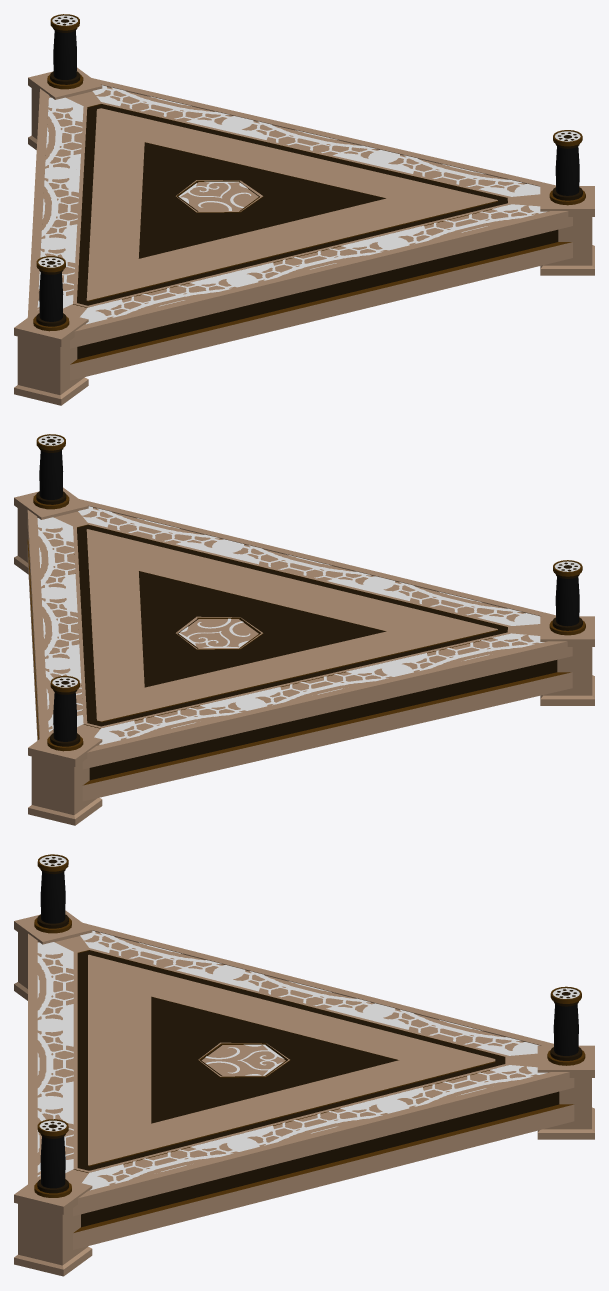
The model's file is PressetLevel.3.fbx.
3 renders of one model, top to bottom at view 1: azimuth 30°, elevation 25°; view 2: azimuth 150°, elevation 25°; view 3: azimuth 270°, elevation 25°, orthographic. The views are drawn at different scales.
Visible parts, largest first — view 1: Cube.012, Cylinder.002, Cylinder.003; view 2: Cube.012, Cylinder.002, Cylinder.003; view 3: Cube.012, Cylinder.002, Cylinder.003.
Part boxes in pixels (x1,y1,x2,y2): Cube.012: (27, 78, 572, 380); Cylinder.002: (14, 130, 594, 405); Cylinder.003: (28, 14, 102, 149); Cube.012: (27, 499, 572, 801); Cylinder.002: (14, 434, 594, 705); Cylinder.003: (28, 676, 102, 825); Cube.012: (28, 923, 574, 1249); Cylinder.002: (14, 854, 92, 1276); Cylinder.003: (537, 986, 594, 1139).
Size of the model in its own units: 3700 by 779 by 3051.
